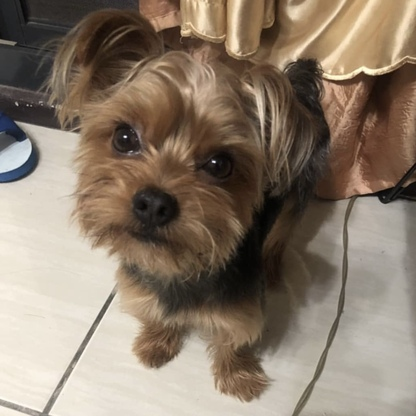yokshine: (46, 8, 332, 400)
